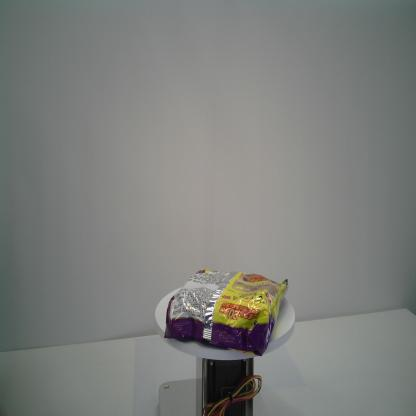Instant Noodles: (164, 266, 290, 359)
